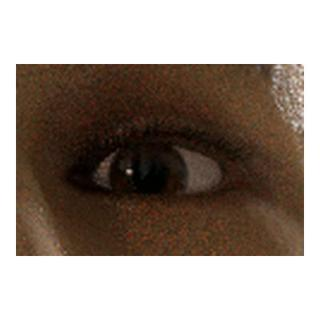pupil: (131, 160, 164, 193)
